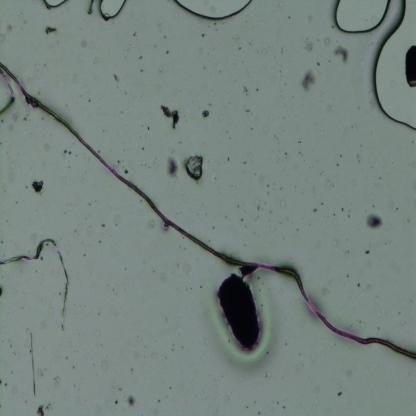Air bubble: (369, 0, 416, 132), (171, 0, 252, 25), (334, 1, 390, 36), (98, 0, 126, 23), (44, 0, 70, 12)
Background material: (216, 268, 270, 366), (185, 153, 205, 184), (28, 330, 37, 398), (161, 101, 179, 132), (404, 46, 416, 90), (300, 66, 318, 94), (162, 154, 178, 178), (333, 44, 350, 66), (366, 211, 384, 231), (52, 363, 64, 388), (30, 178, 46, 192), (181, 260, 193, 277), (43, 23, 58, 36), (59, 144, 71, 159), (86, 0, 96, 17), (303, 40, 315, 53), (126, 394, 137, 408), (34, 404, 46, 416), (43, 402, 54, 414), (200, 106, 210, 119), (252, 199, 261, 211), (112, 70, 119, 83), (242, 85, 249, 98), (37, 366, 45, 377), (339, 202, 345, 214), (336, 387, 344, 396), (225, 154, 232, 164), (324, 36, 330, 47), (312, 206, 318, 216), (113, 396, 118, 406), (136, 54, 142, 62), (296, 149, 302, 157), (365, 248, 371, 256), (282, 150, 288, 158), (278, 184, 283, 192), (0, 288, 4, 298), (97, 238, 102, 245), (319, 200, 324, 206), (124, 167, 128, 174), (256, 411, 261, 416), (4, 382, 9, 387), (198, 283, 202, 289), (157, 398, 161, 404), (243, 160, 247, 165), (101, 223, 105, 228), (0, 377, 2, 385), (240, 218, 244, 222), (266, 184, 270, 188), (281, 407, 285, 409), (238, 206, 240, 209)
Cellulose filter fibre: (0, 235, 70, 332)
Microfibre: (0, 62, 416, 358)
